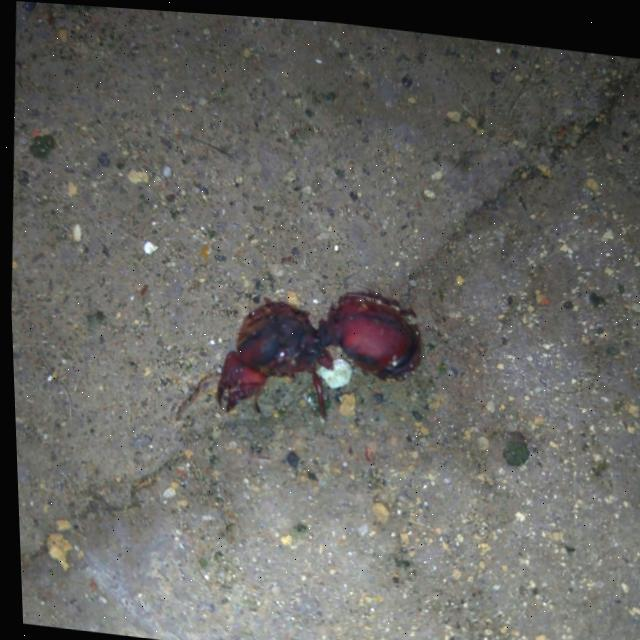Dead-Female-Dealate: (168, 264, 428, 445)
